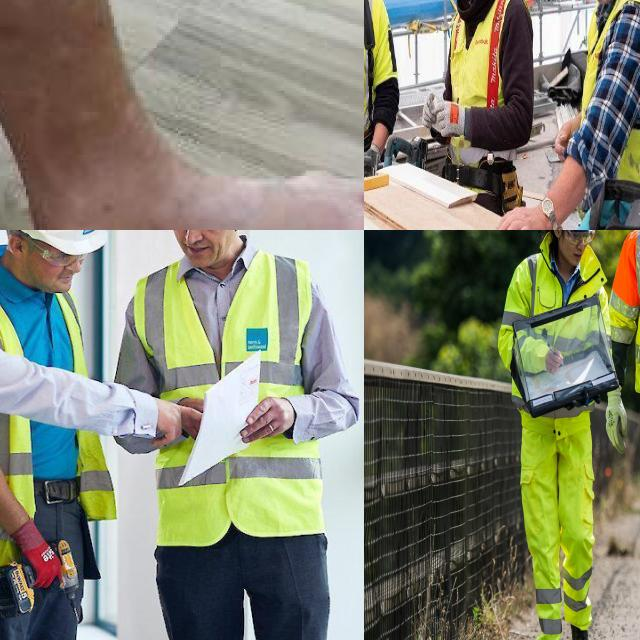Barefoots: (13, 121, 364, 230)
face_nomask: (15, 234, 86, 300), (164, 230, 249, 268), (557, 230, 598, 269)
glasses: (567, 230, 594, 248)
hand_glove: (3, 511, 74, 592), (601, 369, 636, 457), (423, 88, 466, 147)
hand_noglove: (153, 388, 206, 456), (237, 389, 295, 449), (499, 179, 555, 230), (538, 338, 567, 378)
head_helmet: (10, 230, 111, 250)
person: (129, 230, 356, 640), (496, 230, 611, 640), (0, 230, 109, 640), (534, 0, 640, 230), (438, 0, 534, 199), (364, 0, 402, 177)
shoes: (567, 618, 593, 640)
vest: (130, 250, 336, 544), (0, 302, 140, 604), (497, 239, 612, 421), (620, 0, 640, 206)
